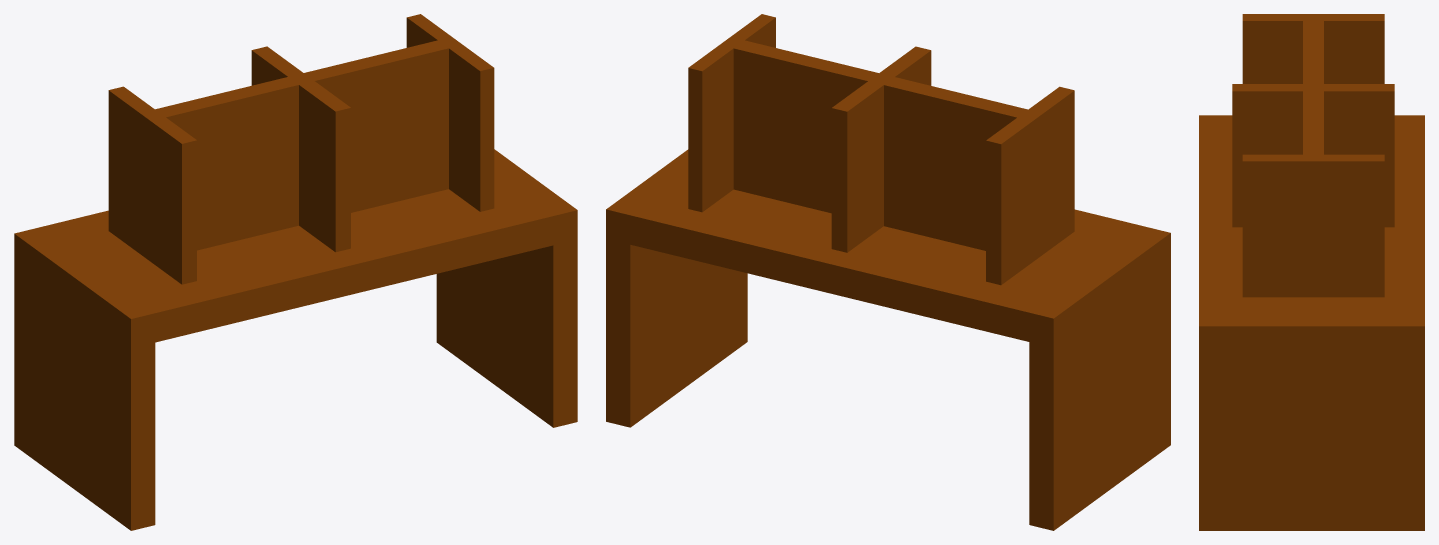
Rendered from MesaEscritorio.fbx.
The picture shows the model from 3 angles, left to right: view 1: azimuth 30°, elevation 25°; view 2: azimuth 150°, elevation 25°; view 3: azimuth 270°, elevation 25°; orthographic projection. The views are drawn at different scales.
Visible parts, largest first — view 1: MesaEscritorio; view 2: MesaEscritorio; view 3: MesaEscritorio.
Part boxes in pixels (x1=…): MesaEscritorio: x1=14, y1=14, x2=577, y2=530; MesaEscritorio: x1=606, y1=14, x2=1170, y2=530; MesaEscritorio: x1=1199, y1=14, x2=1424, y2=530.
Size of the model in its own units: 441 by 333 by 200.
